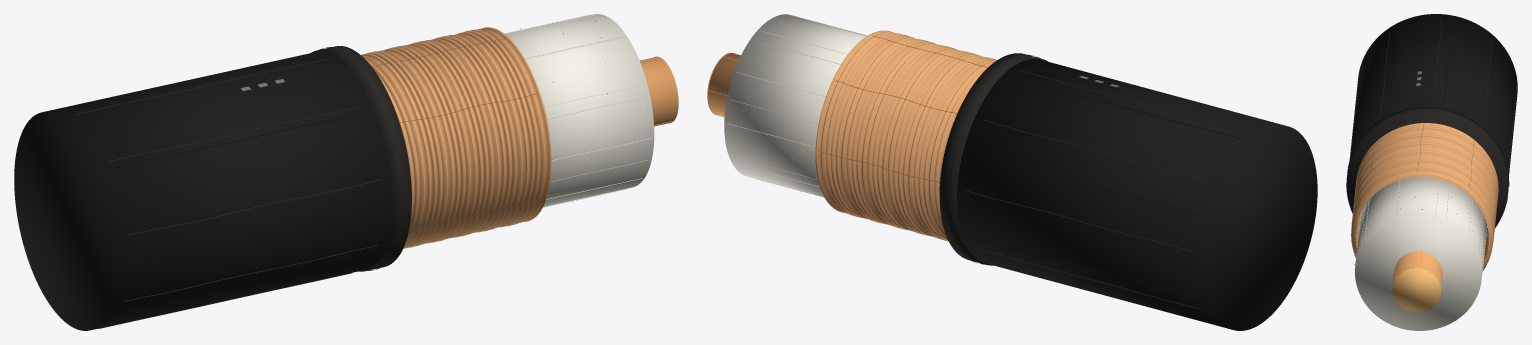
Rendered from rf-ldf4-macro.glb.
3 views of the same model, side by side, from view 1: azimuth 30°, elevation 25°; view 2: azimuth 150°, elevation 25°; view 3: azimuth 270°, elevation 25° (orthographic). The views are drawn at different scales.
Parts seen in each view (by area): view 1: macro hardline jacket body, annular corrugated solid shield, macro foam dielectric exposed core, hardline jacket cut wall, polished solid center conductor, rounded jacket cut lip; view 2: macro hardline jacket body, annular corrugated solid shield, macro foam dielectric exposed core, hardline jacket cut wall, polished solid center conductor, rounded jacket cut lip; view 3: macro hardline jacket body, macro foam dielectric exposed core, annular corrugated solid shield, hardline jacket cut wall, polished conductor cut face glow, polished solid center conductor, rounded jacket cut lip.
Part boxes in pixels (x1=…): macro hardline jacket body: x1=14, y1=51, x2=392, y2=330; annular corrugated solid shield: x1=361, y1=27, x2=551, y2=248; macro foam dielectric exposed core: x1=505, y1=14, x2=654, y2=206; hardline jacket cut wall: x1=311, y1=46, x2=411, y2=271; polished solid center conductor: x1=640, y1=57, x2=677, y2=126; rounded jacket cut lip: x1=319, y1=47, x2=403, y2=270; macro hardline jacket body: x1=957, y1=59, x2=1317, y2=330; annular corrugated solid shield: x1=815, y1=30, x2=996, y2=241; macro foam dielectric exposed core: x1=724, y1=14, x2=866, y2=197; hardline jacket cut wall: x1=939, y1=53, x2=1047, y2=265; polished solid center conductor: x1=708, y1=53, x2=740, y2=116; rounded jacket cut lip: x1=946, y1=54, x2=1039, y2=264; macro hardline jacket body: x1=1349, y1=14, x2=1517, y2=176; macro foam dielectric exposed core: x1=1355, y1=177, x2=1486, y2=330; annular corrugated solid shield: x1=1351, y1=123, x2=1498, y2=271; hardline jacket cut wall: x1=1346, y1=107, x2=1508, y2=227; polished conductor cut face glow: x1=1392, y1=268, x2=1440, y2=312; polished solid center conductor: x1=1393, y1=251, x2=1442, y2=288; rounded jacket cut lip: x1=1347, y1=109, x2=1509, y2=199.
Bounding box in the file's own units: 11.67 × 3.91 × 4.11.
